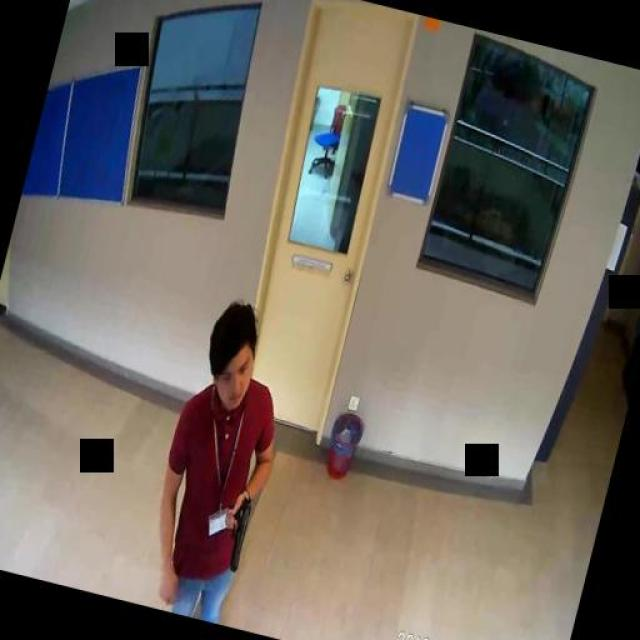gun: (212, 490, 254, 571)
